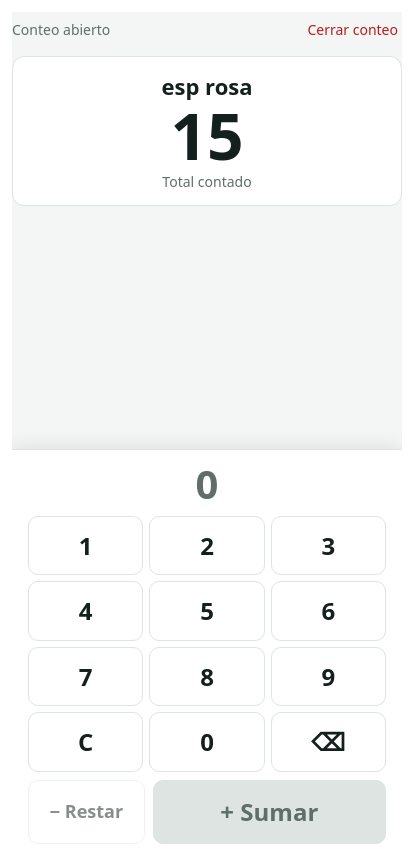
Conteo · con un conteo abierto (teclado para una mano) › teclear 2 y 0 y Sumar envía +20, limpia la cantidad y lo confirma
The width and height of the screenshot is (414, 856).
Click the button "2". click: x=207, y=545
box: left=149, top=516, right=265, bottom=575
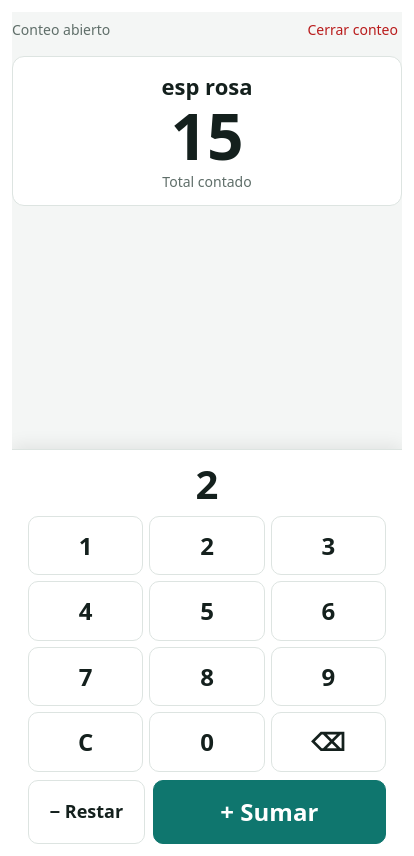
Click the button "0". click: x=207, y=742
box: left=149, top=712, right=265, bottom=772
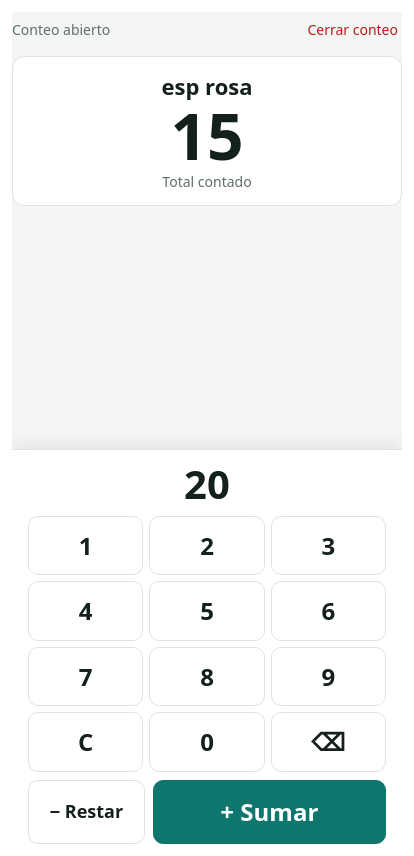
Click the button "+ Sumar". click: x=269, y=812
box: left=153, top=780, right=386, bottom=844
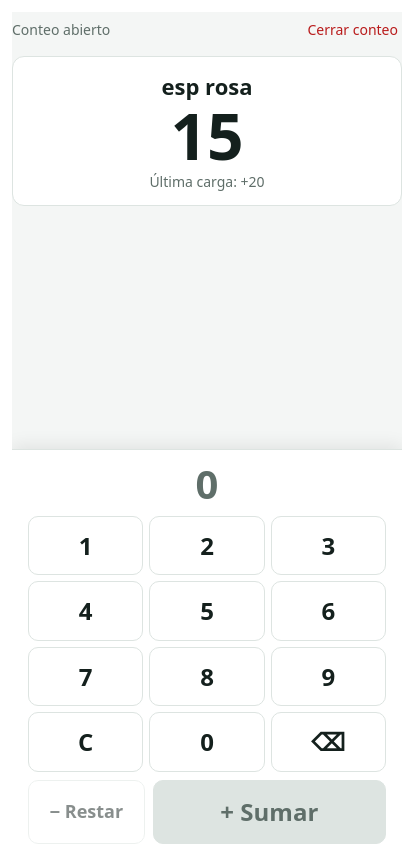
Expected: the text with class "muted" reads "Última carga: +20", left=149, top=172, right=265, bottom=191
